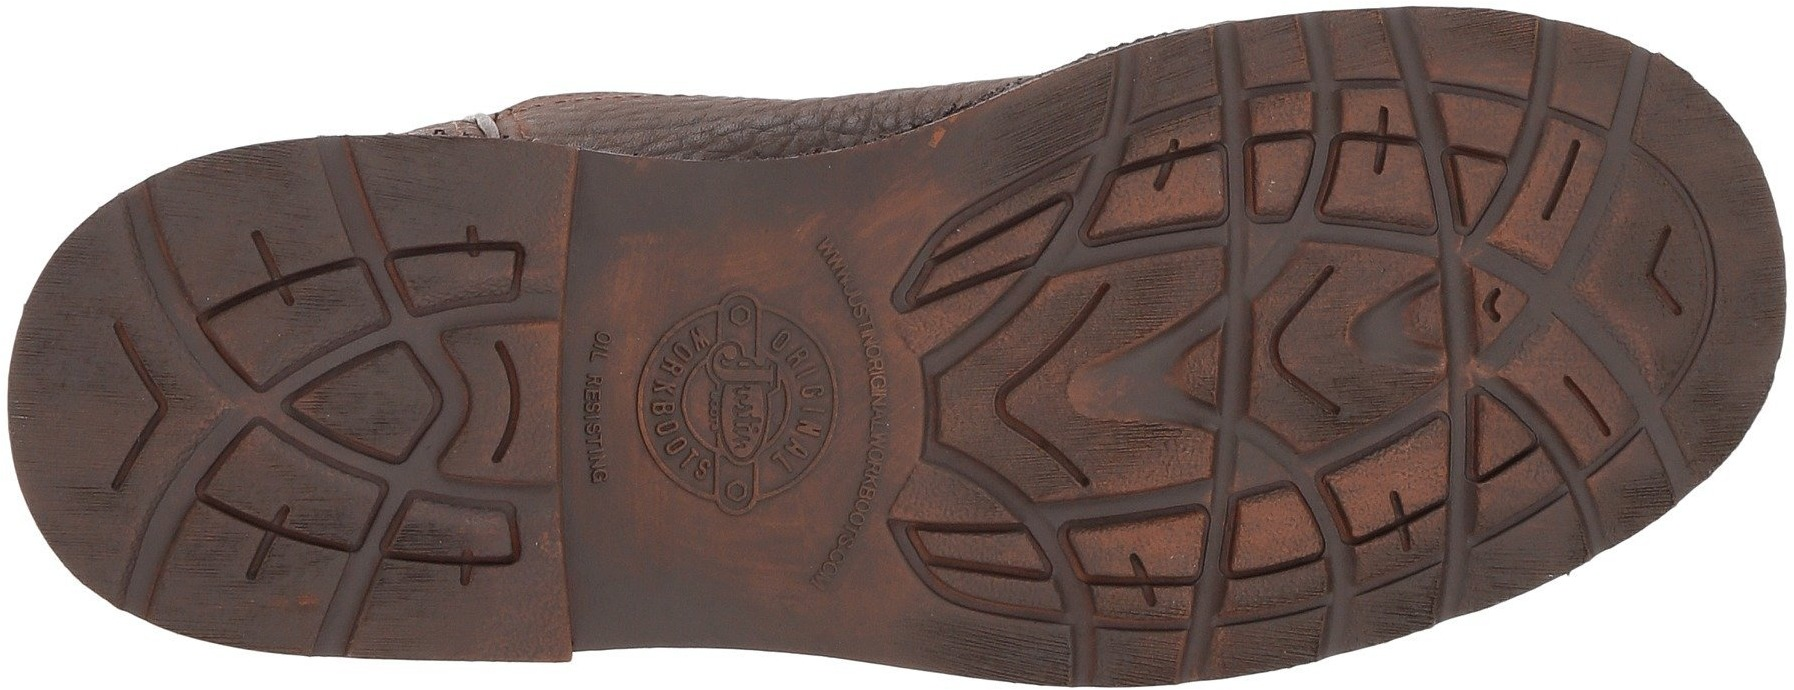chevron: (1455, 133, 1754, 446), (943, 238, 1229, 507), (1233, 235, 1453, 453), (50, 319, 223, 491)
circle: (626, 285, 855, 520)
other: (657, 176, 778, 291), (670, 521, 787, 628)
quad: (175, 223, 559, 590), (1220, 9, 1460, 224), (1220, 459, 1418, 644), (1398, 81, 1571, 237), (1472, 122, 1628, 267), (1412, 64, 1551, 164)
text: (626, 285, 855, 520), (582, 318, 619, 497), (707, 330, 779, 402), (780, 373, 844, 446), (632, 376, 694, 441)
triangle: (1398, 81, 1571, 237), (1440, 246, 1547, 368), (1420, 127, 1537, 227)
